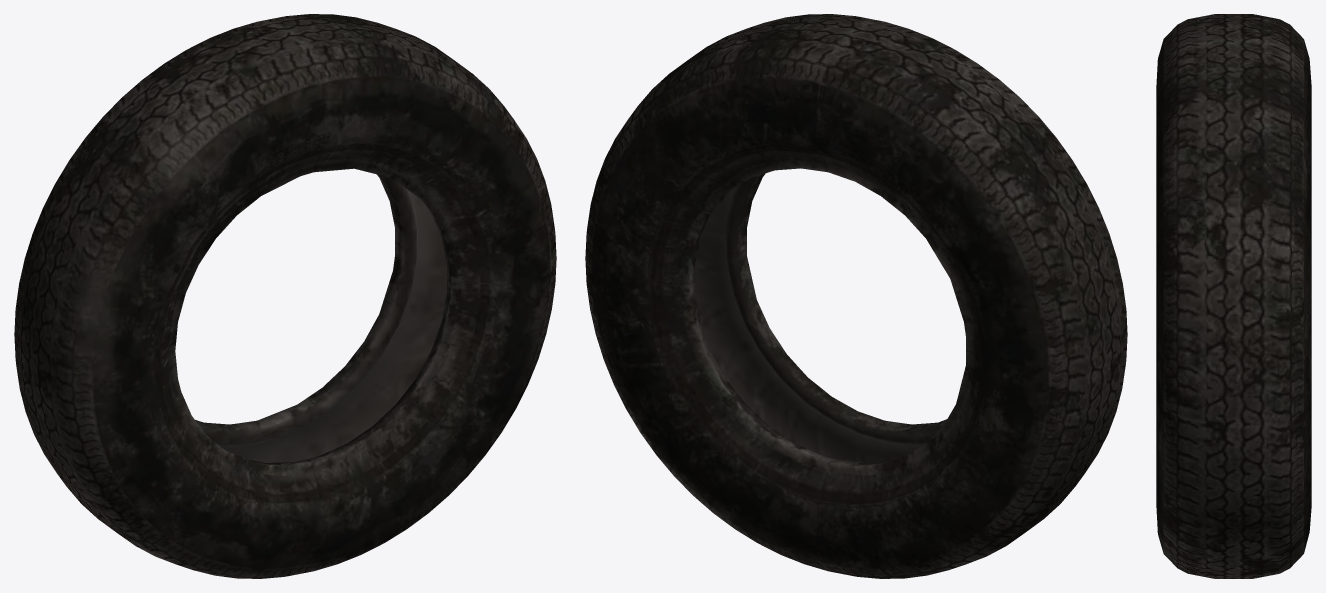
The model's file is old_tyre.glb.
3 views of the same model, side by side, from view 1: azimuth 30°, elevation 25°; view 2: azimuth 150°, elevation 25°; view 3: azimuth 270°, elevation 25° (orthographic). The views are drawn at different scales.
Parts seen in each view (by area): view 1: old_tyre; view 2: old_tyre; view 3: old_tyre.
Part boxes in pixels (bbox=[...]): old_tyre: bbox=[14, 14, 556, 578]; old_tyre: bbox=[585, 14, 1127, 578]; old_tyre: bbox=[1156, 14, 1311, 578].
Bounding box in the file's own units: 0.6 × 0.6 × 0.165.
1 material, 1 textured.
